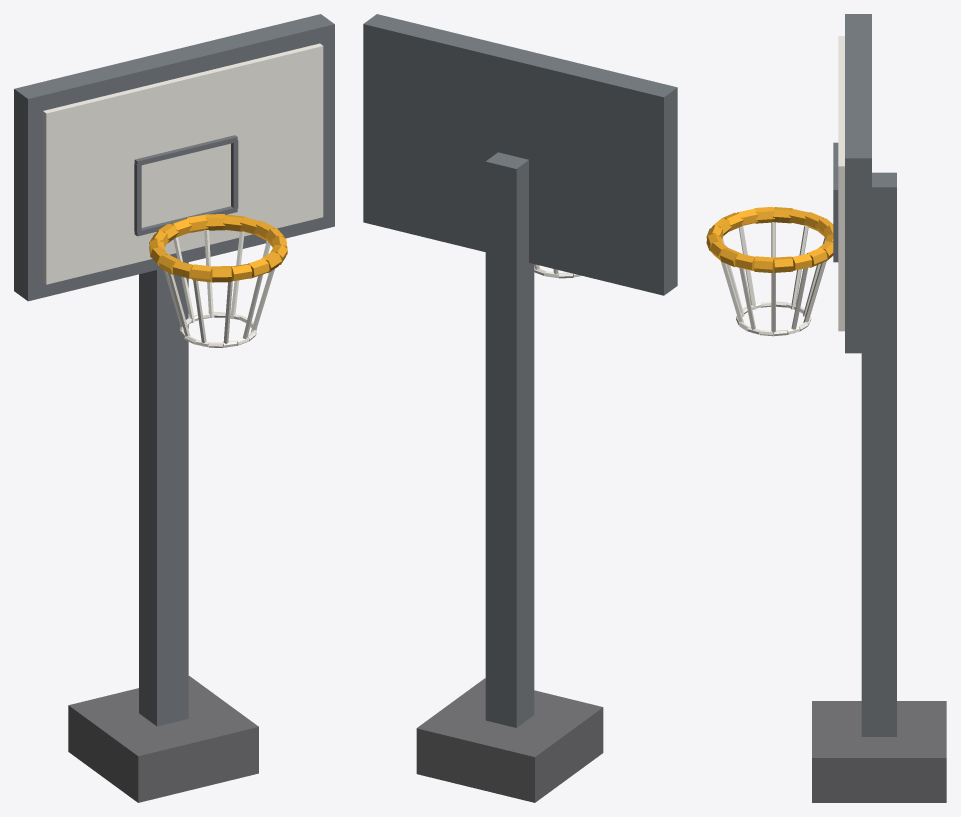
File: Sport_Basketball_Hoop.glb
The picture shows the model from 3 angles, left to right: view 1: azimuth 30°, elevation 25°; view 2: azimuth 150°, elevation 25°; view 3: azimuth 270°, elevation 25°; orthographic projection. The views are drawn at different scales.
Parts seen in each view (by area): view 1: Sport_Basketball_Hoop; view 2: Sport_Basketball_Hoop; view 3: Sport_Basketball_Hoop.
Boxes of the visible parts, box(x1,y1,x2,y2) form: Sport_Basketball_Hoop: box(14, 14, 334, 802); Sport_Basketball_Hoop: box(363, 14, 677, 802); Sport_Basketball_Hoop: box(706, 14, 946, 802).
Bounding box in the file's own units: 1.65 × 3.67 × 1.16.
